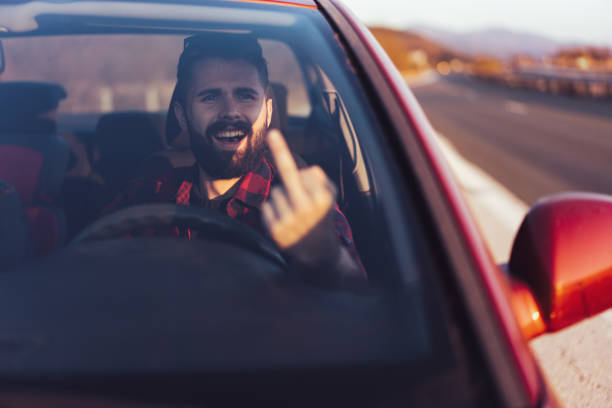insulting_gesture: (261, 124, 335, 256)
